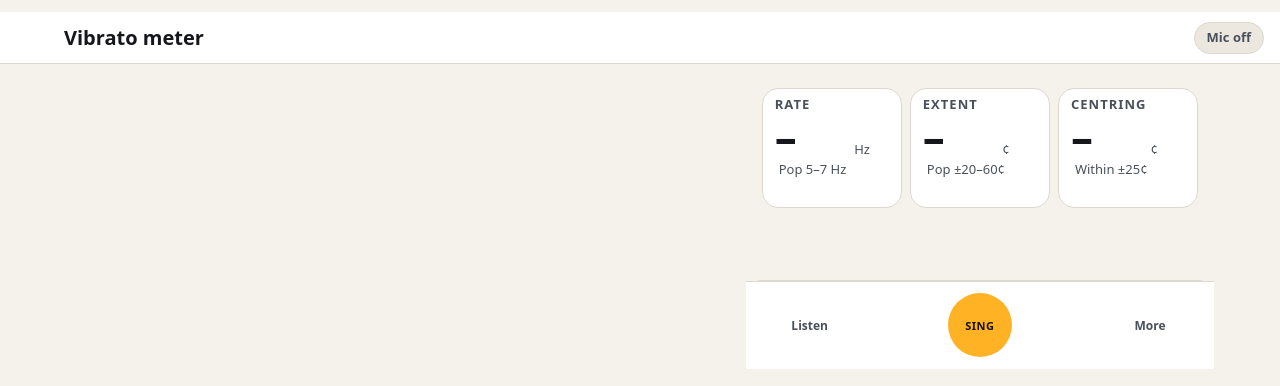
Test: Vibrato meter: the controls › starts the microphone straight from the tap, and waits while it starts
Click the button with test id "sing-button" at [980, 325], box [948,293,1012,357]
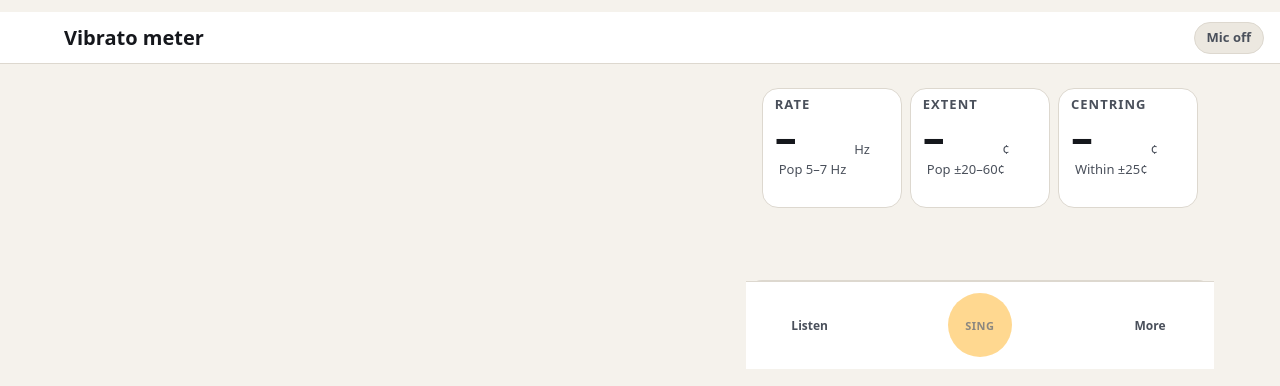
Expected: the button with test id "sing-button" is disabled, [948,293,1012,357]
